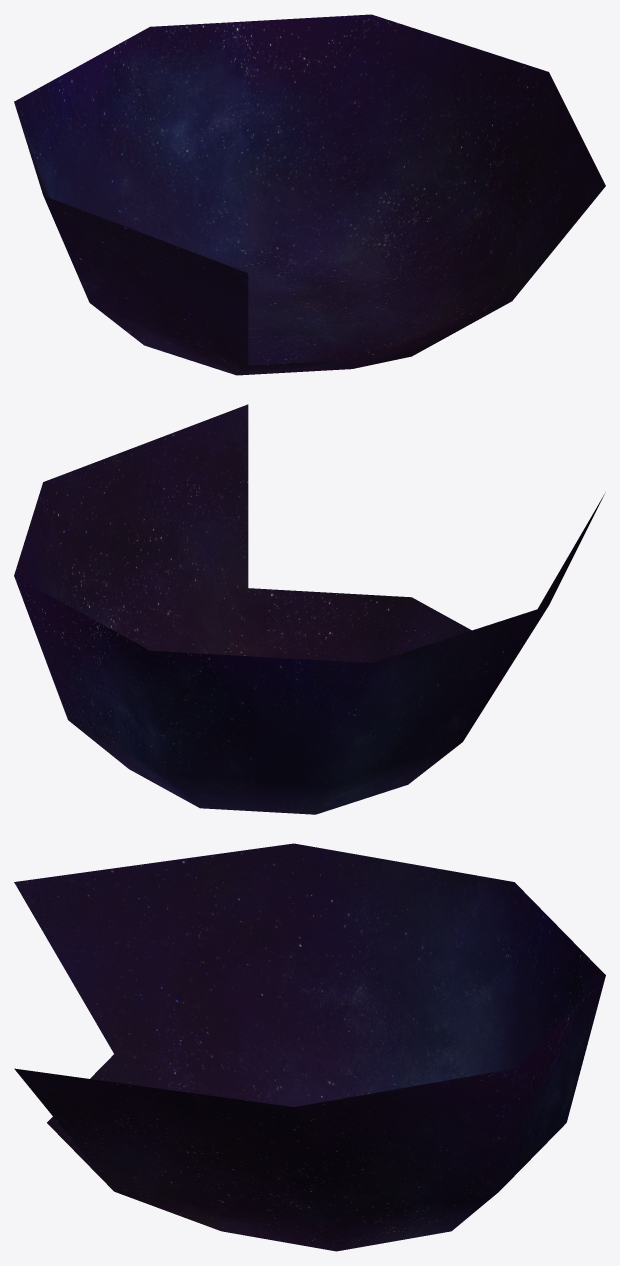
File: Backdrop.fbx
The picture shows the model from 3 angles, top to bottom: view 1: azimuth 30°, elevation 25°; view 2: azimuth 150°, elevation 25°; view 3: azimuth 270°, elevation 25°; orthographic projection. The views are drawn at different scales.
Visible parts, largest first — view 1: Backdrop; view 2: Backdrop; view 3: Backdrop.
Part boxes in pixels (box(x1,y1,x2,y2)): Backdrop: box(14, 14, 605, 375); Backdrop: box(14, 404, 604, 814); Backdrop: box(14, 843, 605, 1251).
Bounding box in the file's own units: 663 × 243 × 629.
1 material, 1 textured.
